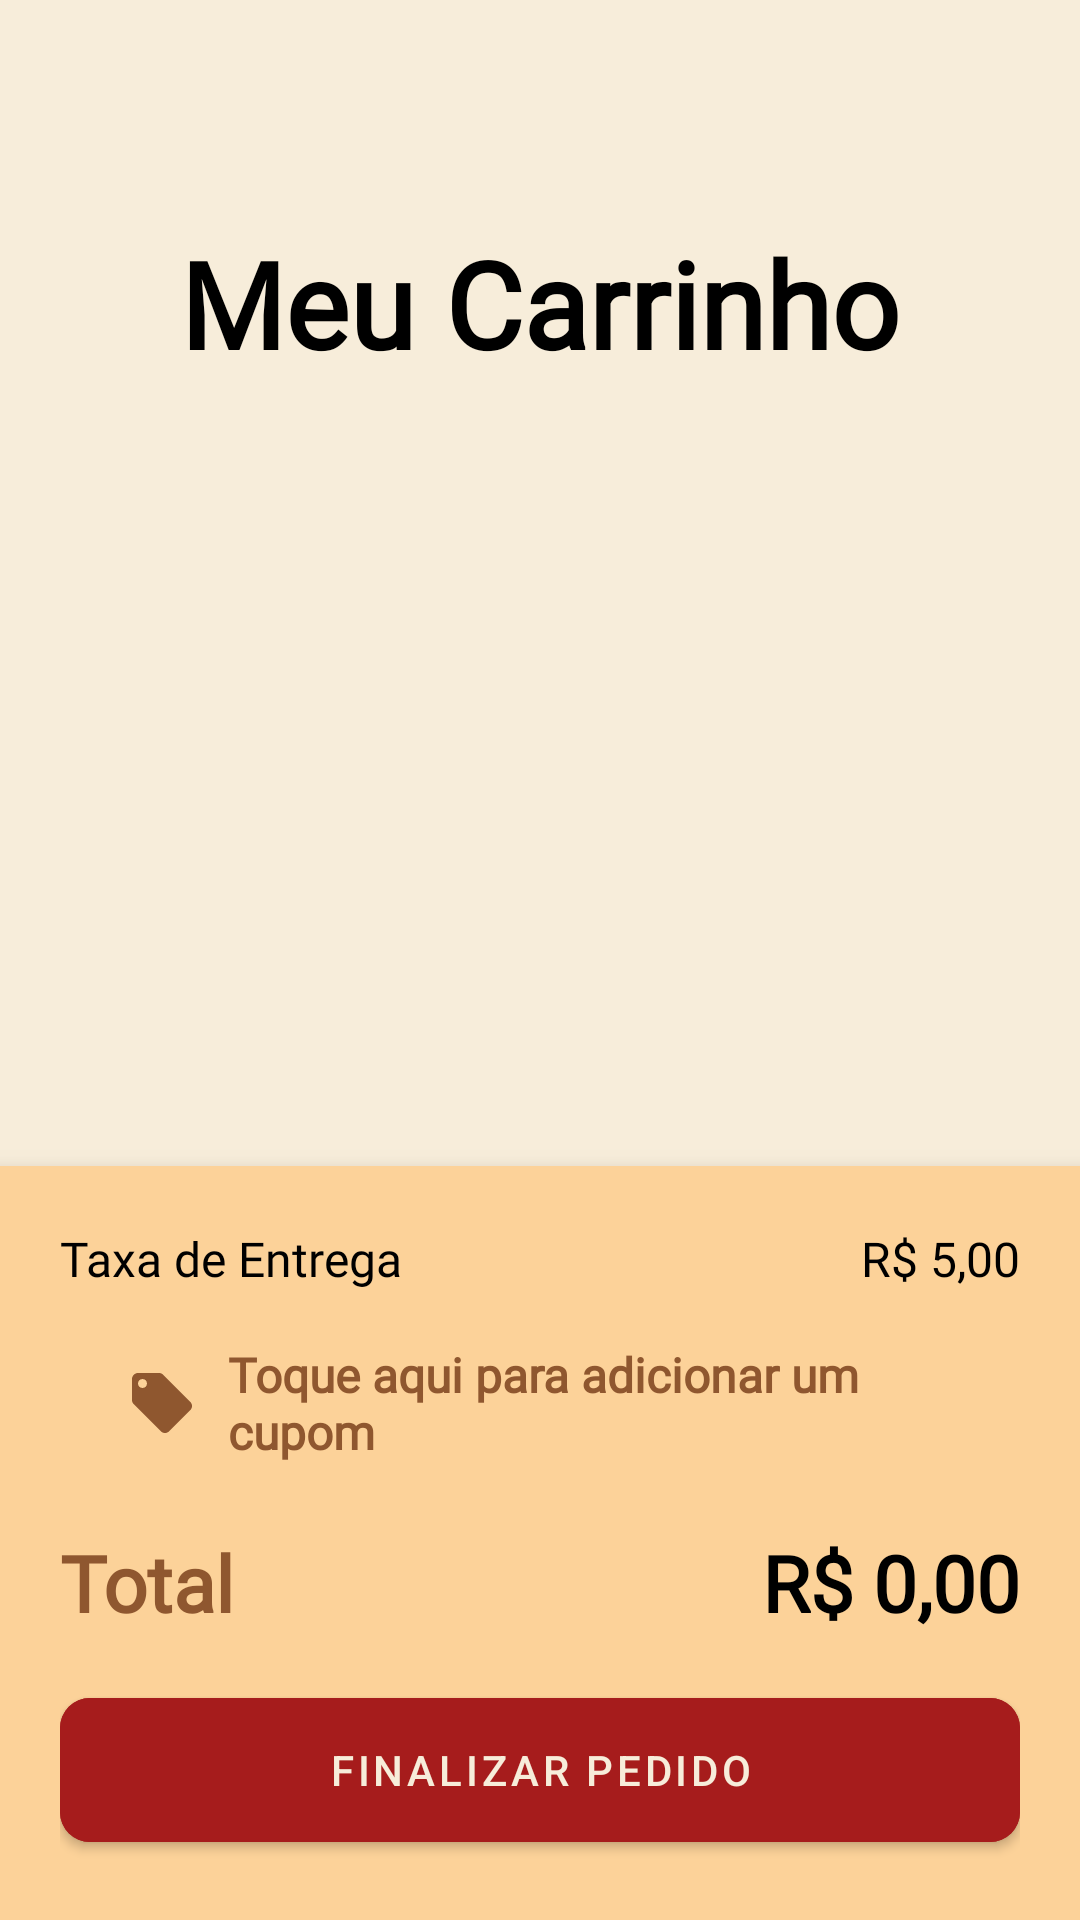

Named icons in this screenshot (1080*1920) and their centers, point (x, y):
local offer: point (162, 1403)
